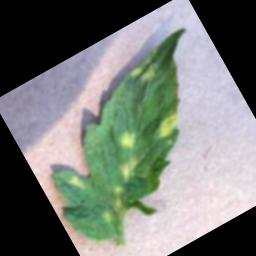Leaf_Mold: (150, 107, 186, 140), (128, 58, 160, 88), (115, 153, 145, 183), (116, 125, 143, 152), (106, 183, 131, 210), (67, 171, 85, 191), (100, 209, 114, 224)
